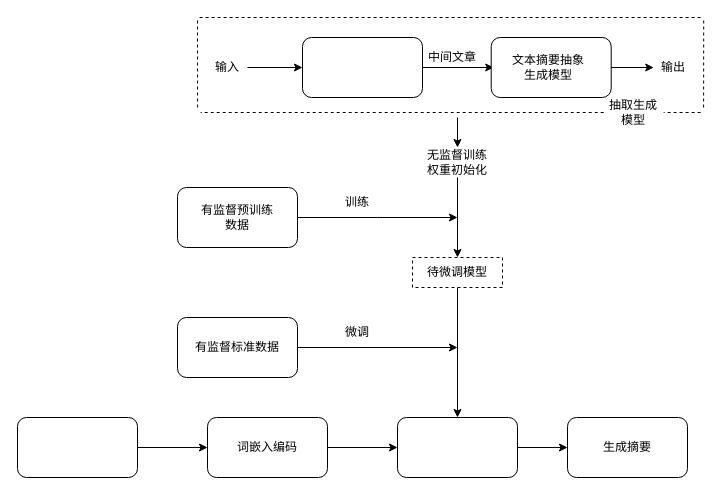
This 723x495 diagram has some shape labels left out. Each missing label, with the box of its shape:
文本摘要抽取模型: (302, 36, 422, 98)
文本预处理: (16, 416, 138, 478)
训练好的两阶段文本摘要模型: (396, 416, 518, 478)
